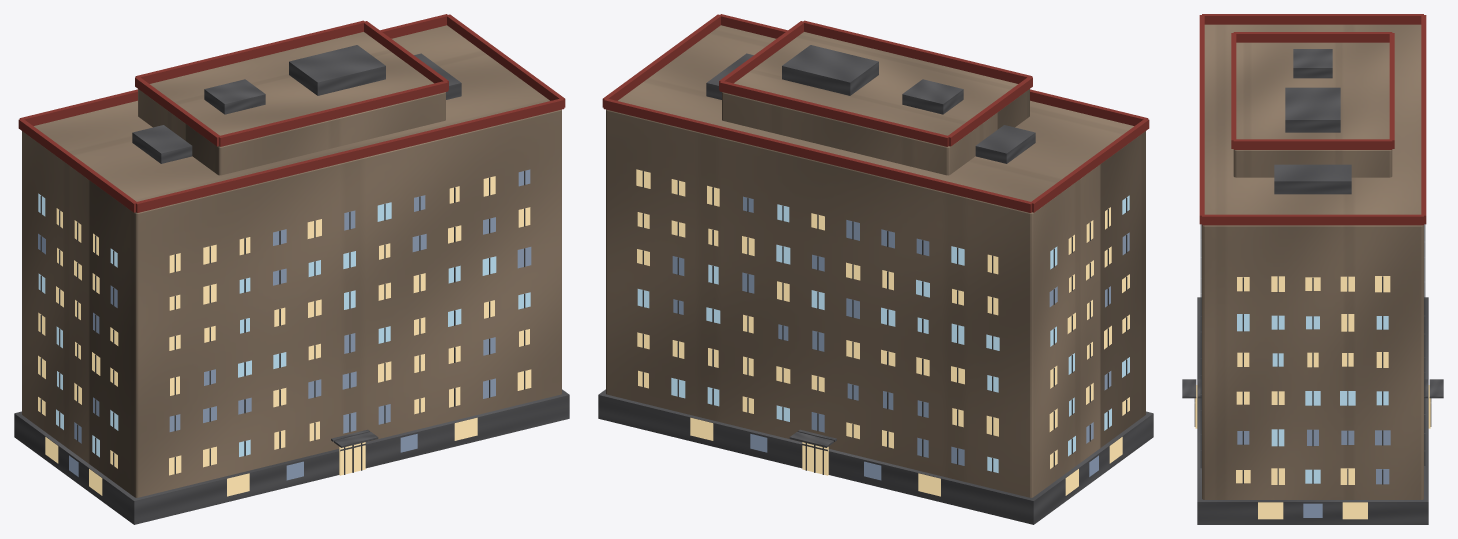
The model's file is facades.glb.
3 renders of one model, left to right at view 1: azimuth 30°, elevation 25°; view 2: azimuth 150°, elevation 25°; view 3: azimuth 270°, elevation 25°, orthographic. The views are drawn at different scales.
Parts seen in each view (by area): view 1: FacadeWideSlab, FacadeTallSlab, FacadeWideWinWarm, FacadeWideWinDark, FacadeWideWinCool, FacadeWideWinMullion, FacadeWideLobbyWarm, FacadeWideLobbyDim; view 2: FacadeWideSlab, FacadeTallSlab, FacadeWideWinWarm, FacadeWideWinCool, FacadeWideWinDark, FacadeWideWinMullion, FacadeWideLobbyWarm, FacadeWideLobbyDim; view 3: FacadeWideSlab, FacadeTallSlab, FacadeWideWinWarm, FacadeWideWinCool, FacadeWideWinMullion, FacadeWideWinDark, FacadeWideLobbyWarm.
Boxes of the visible parts, bbox=[...] form: FacadeWideSlab: bbox=[14, 14, 569, 524]; FacadeTallSlab: bbox=[135, 20, 448, 175]; FacadeWideWinWarm: bbox=[38, 176, 531, 475]; FacadeWideWinDark: bbox=[38, 169, 531, 443]; FacadeWideWinCool: bbox=[38, 193, 530, 457]; FacadeWideWinMullion: bbox=[40, 171, 525, 474]; FacadeWideLobbyWarm: bbox=[45, 417, 477, 496]; FacadeWideLobbyDim: bbox=[69, 434, 417, 480]; FacadeWideSlab: bbox=[598, 14, 1153, 524]; FacadeTallSlab: bbox=[719, 20, 1032, 175]; FacadeWideWinWarm: bbox=[636, 169, 1129, 468]; FacadeWideWinCool: bbox=[637, 195, 1129, 472]; FacadeWideWinDark: bbox=[672, 196, 1129, 465]; FacadeWideWinMullion: bbox=[642, 171, 1127, 472]; FacadeWideLobbyWarm: bbox=[690, 417, 1122, 496]; FacadeWideLobbyDim: bbox=[750, 434, 1098, 480]; FacadeWideSlab: bbox=[1182, 14, 1443, 524]; FacadeTallSlab: bbox=[1231, 32, 1394, 177]; FacadeWideWinWarm: bbox=[1236, 276, 1390, 484]; FacadeWideWinCool: bbox=[1237, 314, 1388, 483]; FacadeWideWinMullion: bbox=[1200, 224, 1425, 485]; FacadeWideWinDark: bbox=[1237, 429, 1390, 484]; FacadeWideLobbyWarm: bbox=[1258, 502, 1367, 519].
Bounding box in the file's own units: 30.66 × 23.7 × 16.52.
Materials: 9 (3 with a texture image).
